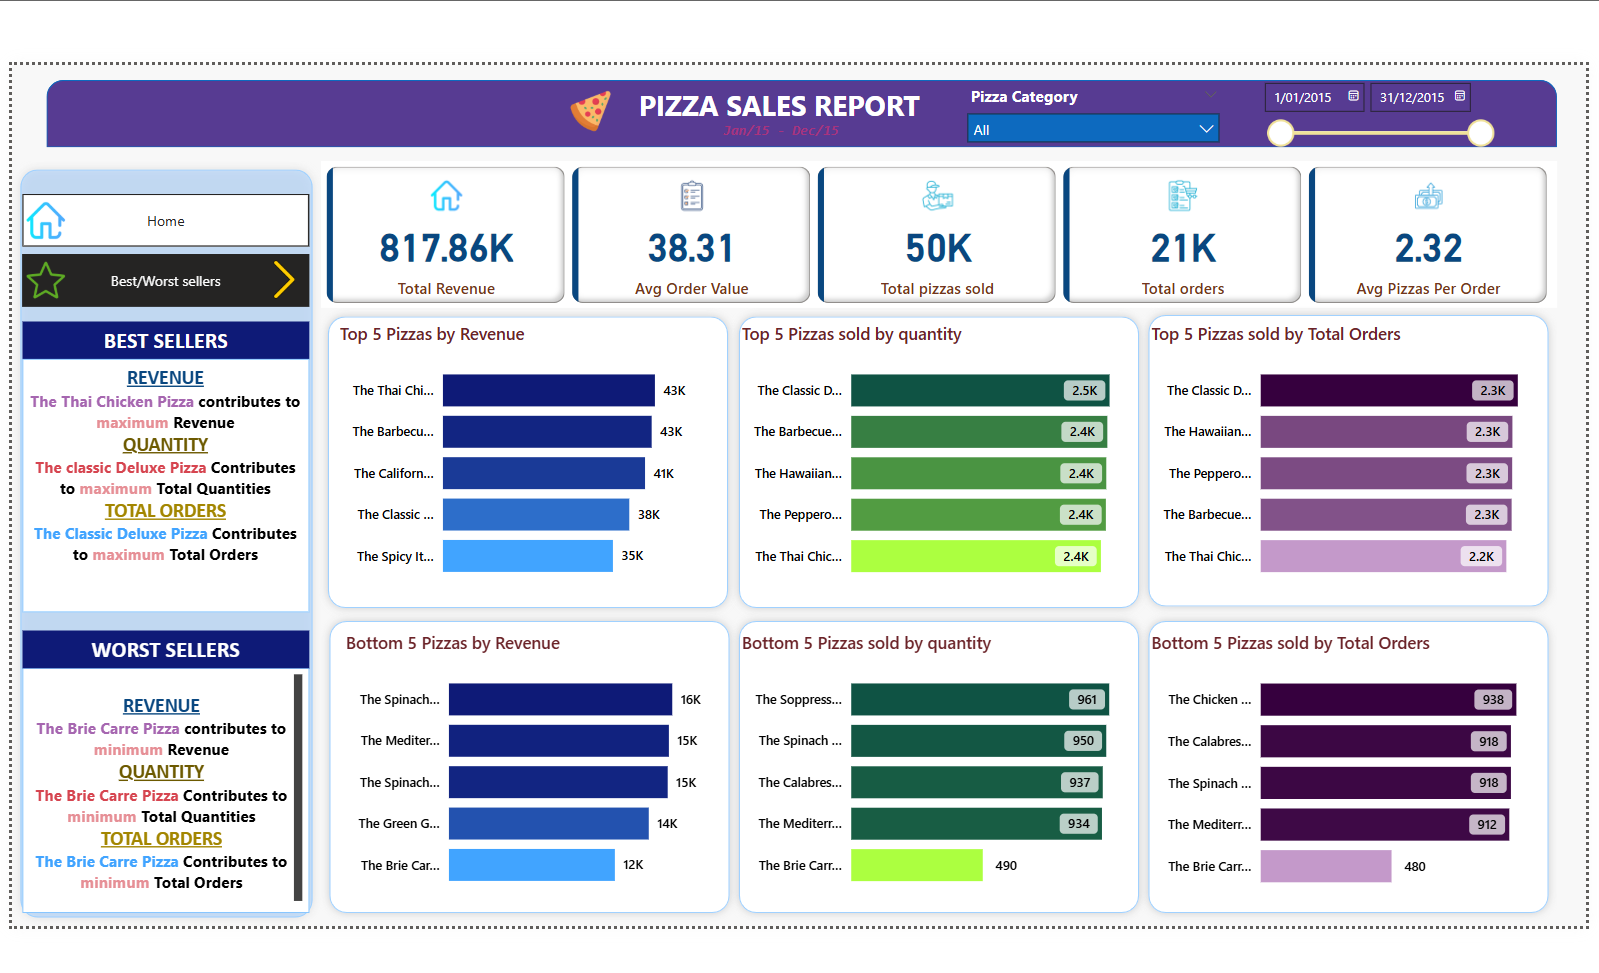

Layout of this report page (visuals, bound fields, positions):
{"tool":"powerbi","page":{"name":"Best/Worst sellers","canvas":[1500,820],"ordinal":1},"visuals":[{"type":"cardVisual","fields":{"Data":["pizza_sales (1).Total Revenue","pizza_sales (1).Avg Order Value","pizza_sales (1).Total pizzas sold","pizza_sales (1).Total orders","pizza_sales (1).Avg Pizzas Per Order"]},"box":[294.5,91.5,1177.9,140.1],"z":0},{"type":"shape","box":[32.9,14.3,1439.5,64.3],"z":1000},{"type":"textbox","box":[586.1,14.3,290.2,47.2],"z":2000},{"type":"textbox","box":[667.6,47.2,130.1,34.3],"z":3000},{"type":"image","box":[526,8.6,50,70],"z":4000},{"type":"shape","box":[293,231.6,397.4,294],"z":5000},{"type":"shape","box":[0,91.5,294.5,729],"z":6000},{"type":"textbox","box":[10,244.4,273,35.7],"z":7000},{"type":"textbox","box":[10,574.7,273,233],"z":8000},{"type":"textbox","box":[10,280.2,273,241.6],"z":9000},{"type":"textbox","box":[10,538.9,273,35.7],"z":10000},{"type":"slicer","fields":{"Values":["pizza_sales (1).pizza_category"]},"box":[900.6,14.3,260.2,64.3],"z":11000},{"type":"slicer","fields":{"Values":["pizza_sales (1).order_date"]},"box":[1180.7,7.1,240.2,74.3],"z":12000},{"type":"shape","box":[684.7,231.6,397.4,294],"z":13000},{"type":"shape","box":[1075,230.1,397.4,294],"z":14000},{"type":"shape","box":[294.5,521.8,397.4,294.5],"z":15000},{"type":"shape","box":[684.7,521.8,397.4,294.5],"z":16000},{"type":"shape","box":[1075,521.8,397.4,294.5],"z":17000},{"type":"barChart","title":"Top 5 Pizzas by Revenue","fields":{"Category":["pizza_sales (1).pizza_name"],"Y":["pizza_sales (1).Total Revenue"]},"box":[307.3,244.4,360.2,260.2],"z":18000},{"type":"barChart","title":"Bottom 5 Pizzas by Revenue","fields":{"Category":["pizza_sales (1).pizza_name"],"Y":["pizza_sales (1).Total Revenue"]},"box":[313.1,538.9,360.2,260.2],"z":19000},{"type":"barChart","title":"Top 5 Pizzas sold by quantity","fields":{"Category":["pizza_sales (1).pizza_name"],"Y":["pizza_sales (1).Total pizzas sold"]},"box":[691,245.1,384.6,260.4],"z":20000},{"type":"barChart","title":"Bottom 5 Pizzas sold by quantity","fields":{"Category":["pizza_sales (1).pizza_name"],"Y":["pizza_sales (1).Total pizzas sold"]},"box":[691,539.5,384.6,260.4],"z":21000},{"type":"barChart","title":"Top 5 Pizzas sold by Total Orders","fields":{"Category":["pizza_sales (1).pizza_name"],"Y":["pizza_sales (1).Total orders"]},"box":[1080.7,245.1,384.6,260.4],"z":22000},{"type":"barChart","title":"Bottom 5 Pizzas sold by Total Orders","fields":{"Category":["pizza_sales (1).pizza_name"],"Y":["pizza_sales (1).Total orders"]},"box":[1080.7,538.9,384.5,261.6],"z":23000},{"type":"pageNavigator","box":[10,122.9,273,50],"z":24000},{"type":"pageNavigator","box":[10,180.1,273,50],"z":25000},{"type":"image","box":[235.9,180.1,47.2,48.6],"z":26000},{"type":"image","box":[8.6,117.2,47.2,61.5],"z":27000},{"type":"image","box":[8.6,178.7,47.2,52.9],"z":28000}]}

Visuals, with their boxes on the page's 1500x820 design canvas (x1, y1, x2, y2). These are canvas units, not pixel positions in the 1599x973 screenshot, which may show the page scaled, cropped or inside an application window:
cardVisual - pizza_sales (1).Total Revenue x pizza_sales (1).Avg Order Value: bbox=(294, 92, 1472, 232)
shape: bbox=(33, 14, 1472, 79)
textbox: bbox=(586, 14, 876, 62)
textbox: bbox=(668, 47, 798, 82)
image: bbox=(526, 9, 576, 79)
shape: bbox=(293, 232, 690, 526)
shape: bbox=(0, 92, 294, 820)
textbox: bbox=(10, 244, 283, 280)
textbox: bbox=(10, 575, 283, 808)
textbox: bbox=(10, 280, 283, 522)
textbox: bbox=(10, 539, 283, 575)
slicer - pizza_sales (1).pizza_category: bbox=(901, 14, 1161, 79)
slicer - pizza_sales (1).order_date: bbox=(1181, 7, 1421, 81)
shape: bbox=(685, 232, 1082, 526)
shape: bbox=(1075, 230, 1472, 524)
shape: bbox=(294, 522, 692, 816)
shape: bbox=(685, 522, 1082, 816)
shape: bbox=(1075, 522, 1472, 816)
"Top 5 Pizzas by Revenue" barChart: bbox=(307, 244, 668, 505)
"Bottom 5 Pizzas by Revenue" barChart: bbox=(313, 539, 673, 799)
"Top 5 Pizzas sold by quantity" barChart: bbox=(691, 245, 1076, 506)
"Bottom 5 Pizzas sold by quantity" barChart: bbox=(691, 540, 1076, 800)
"Top 5 Pizzas sold by Total Orders" barChart: bbox=(1081, 245, 1465, 506)
"Bottom 5 Pizzas sold by Total Orders" barChart: bbox=(1081, 539, 1465, 800)
pageNavigator: bbox=(10, 123, 283, 173)
pageNavigator: bbox=(10, 180, 283, 230)
image: bbox=(236, 180, 283, 229)
image: bbox=(9, 117, 56, 179)
image: bbox=(9, 179, 56, 232)
